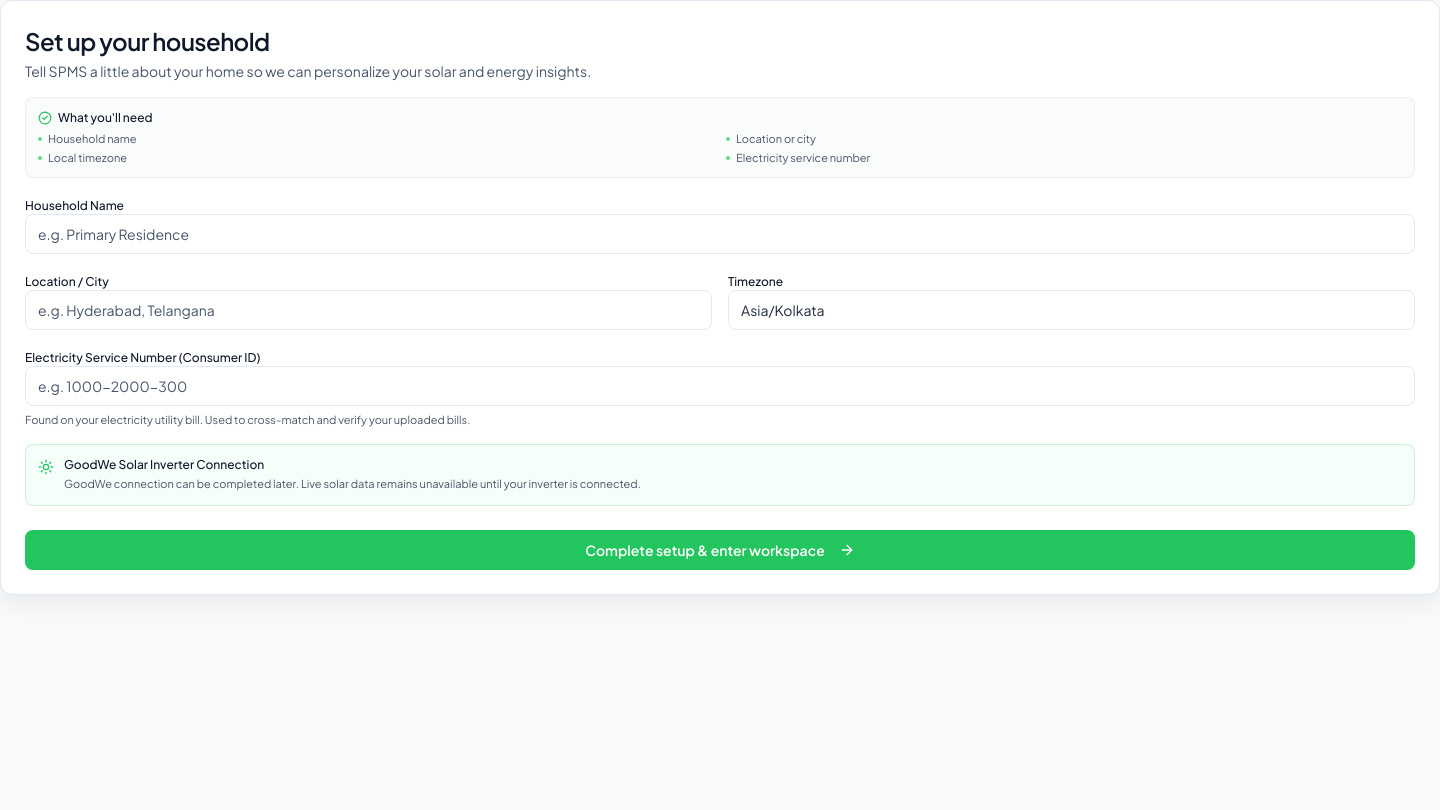
Test case: SPMS O3 Onboarding Flow › REAL Onboarding Journey › validates required fields client-side before submission
The width and height of the screenshot is (1440, 810).
Click the button "Complete setup & enter workspace".
click(720, 550)  # box [25,530,1415,570]
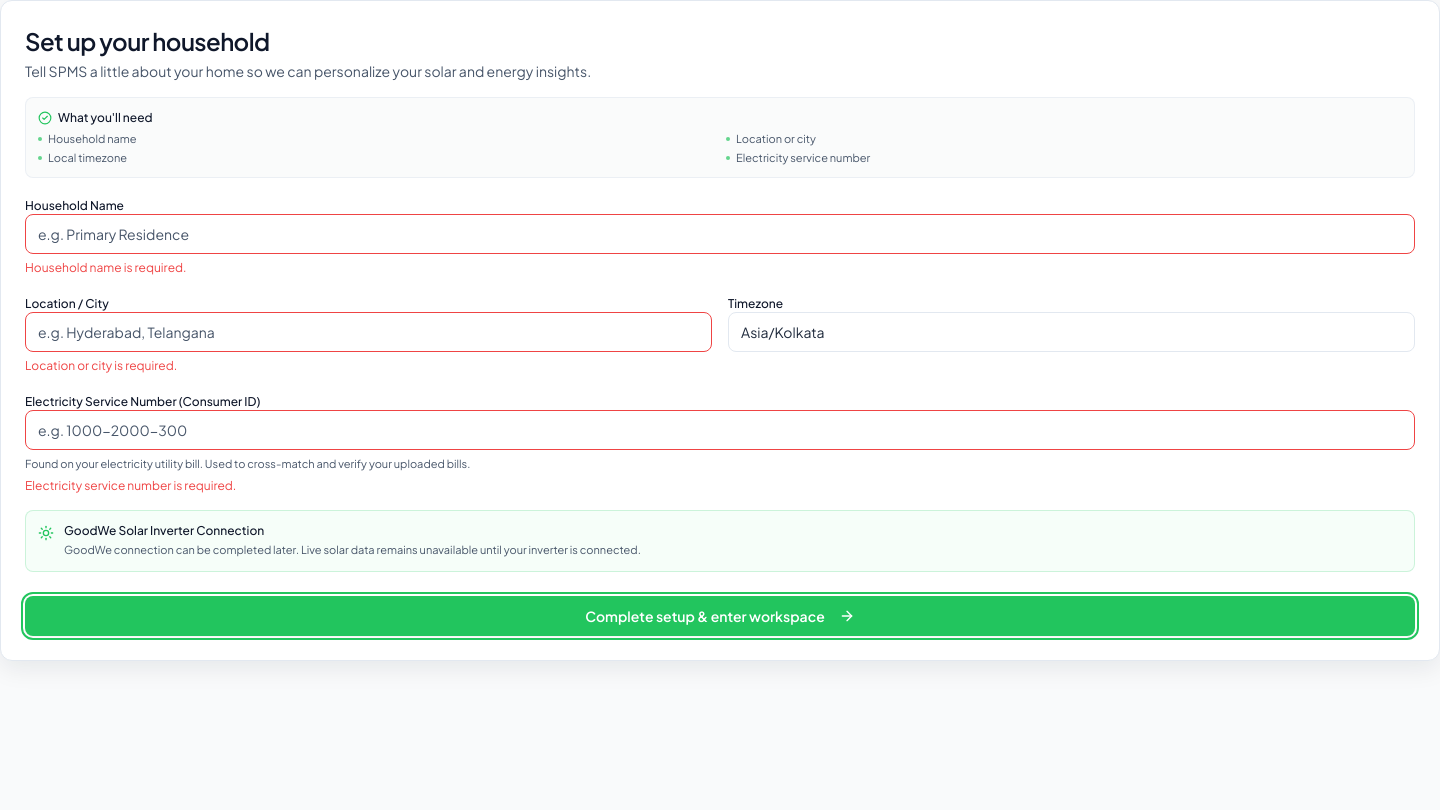
Expected: the text "Household name is required." is shown, [25,260,186,275]
Expected: the text "Location or city is required." is shown, [25,358,177,373]
Expected: the text "Electricity service number is required." is shown, [25,478,236,493]
